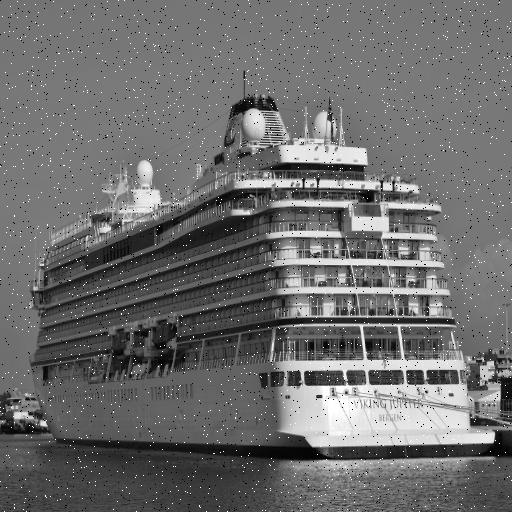cruises: (30, 86, 497, 460)
